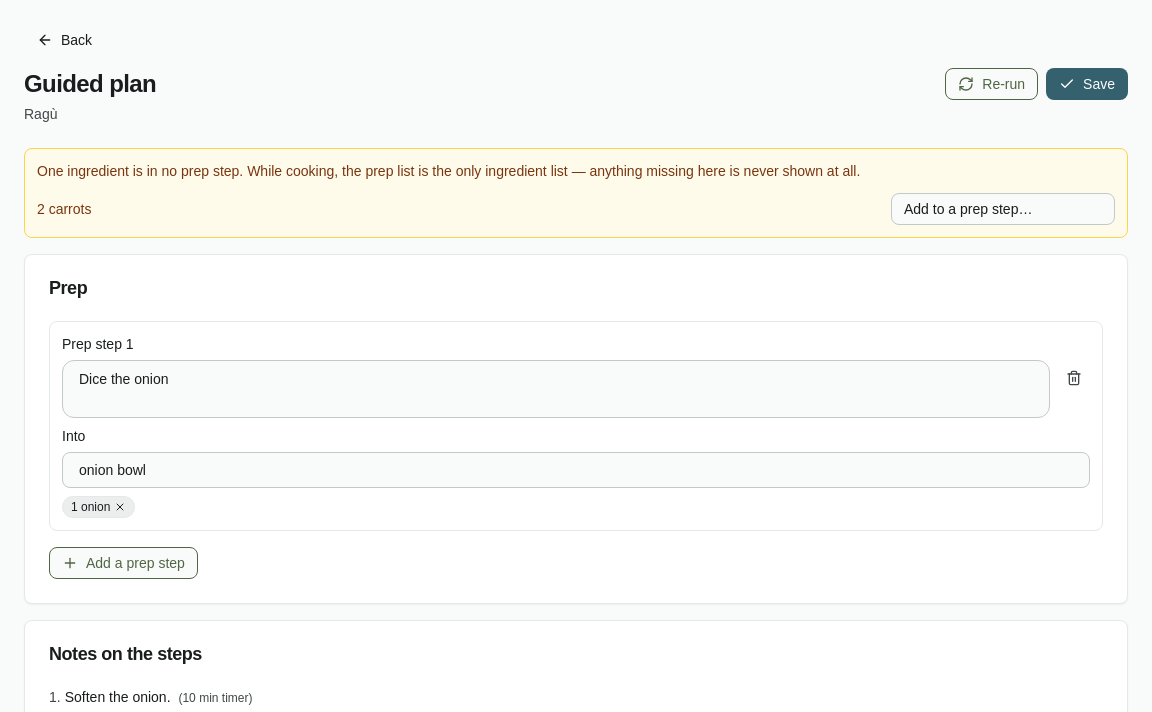
Test: GuidedPlanPage — the unassigned-ingredient warning › clears the warning when the ingredient is attached to a prep entry
Expected: the element with test id "guided-plan-unassigned-warning" is shown, x1=24 y1=148 x2=1128 y2=238
Click the button with test id "guided-plan-prep-ingredient-chip": (99, 507) x1=62 y1=496 x2=135 y2=518
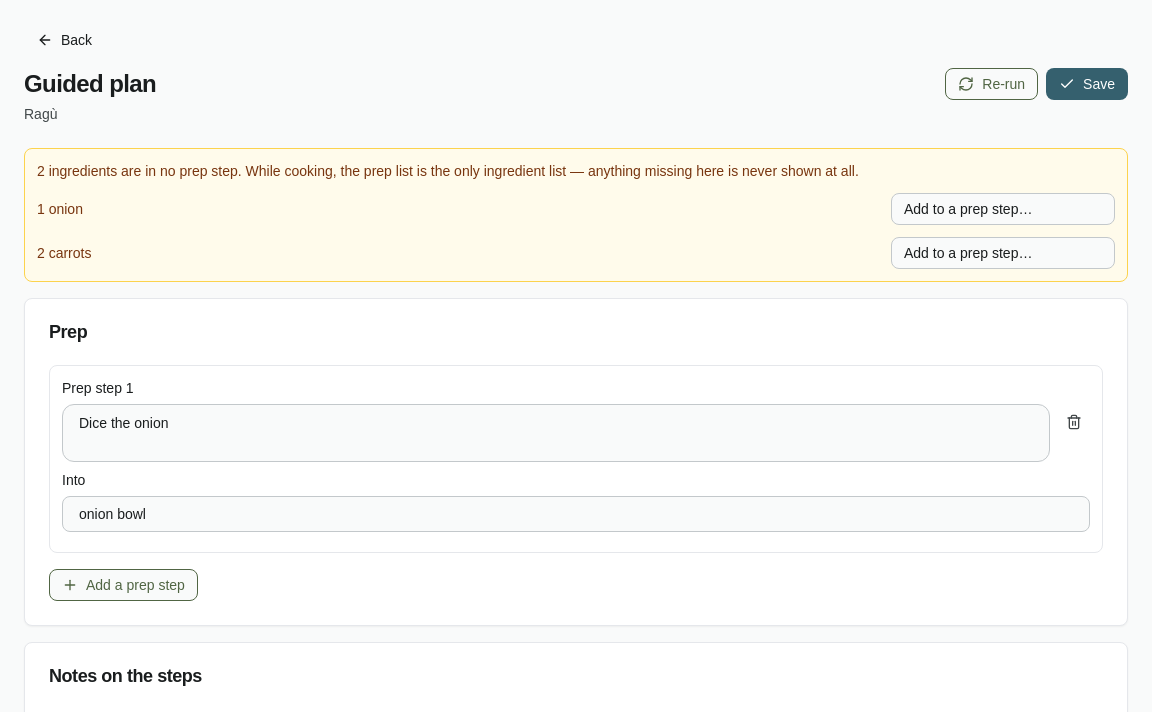
Result: the element with test id "guided-plan-unassigned-warning" shows "1 onion" at x1=37 y1=201 x2=83 y2=217
Result: the button with test id "guided-plan-prep-ingredient-chip" is gone
